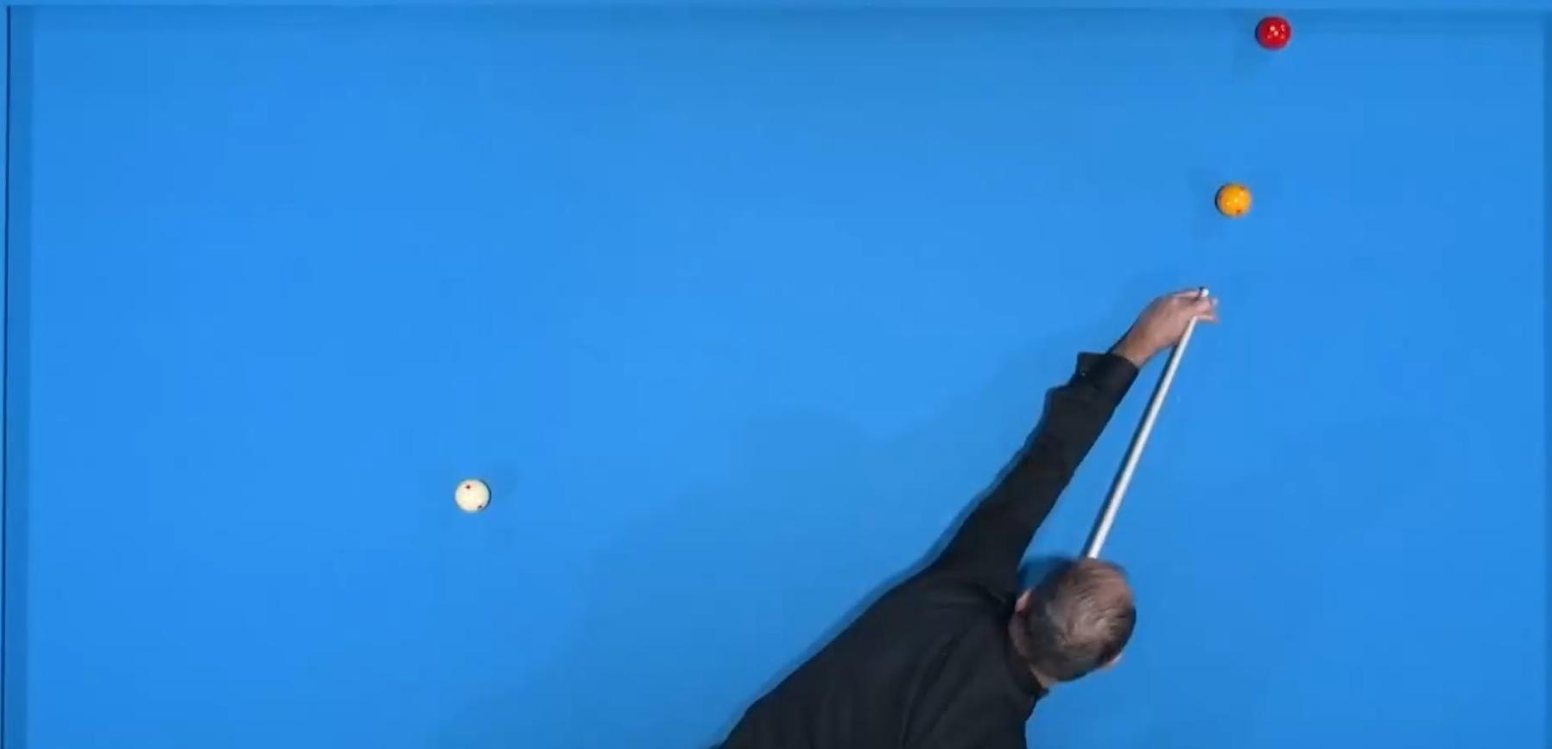red ball: (1255, 11, 1293, 55)
white ball: (450, 476, 495, 515)
yellow ball: (1213, 176, 1257, 223)
